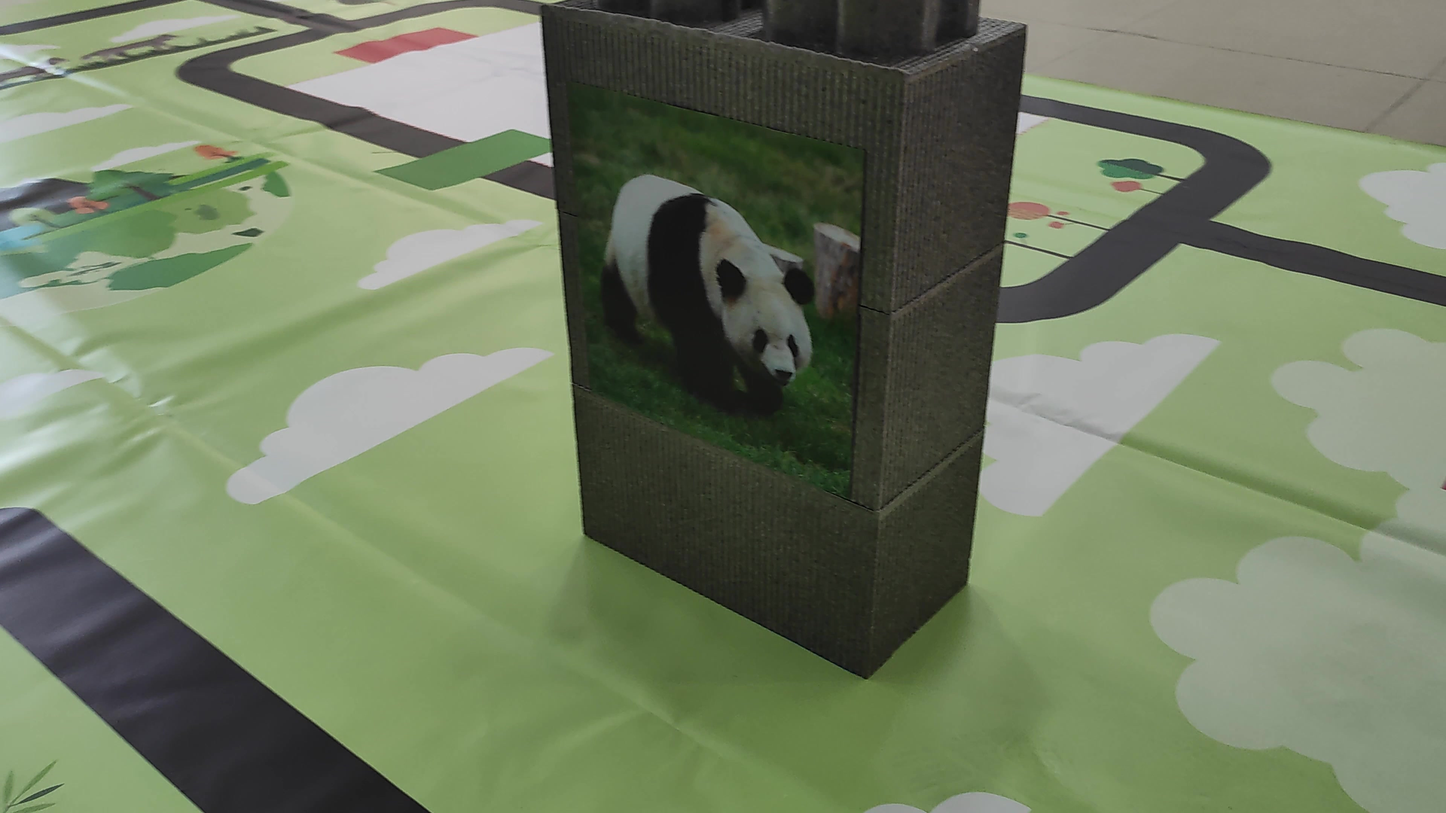panda: (595, 162, 831, 424)
